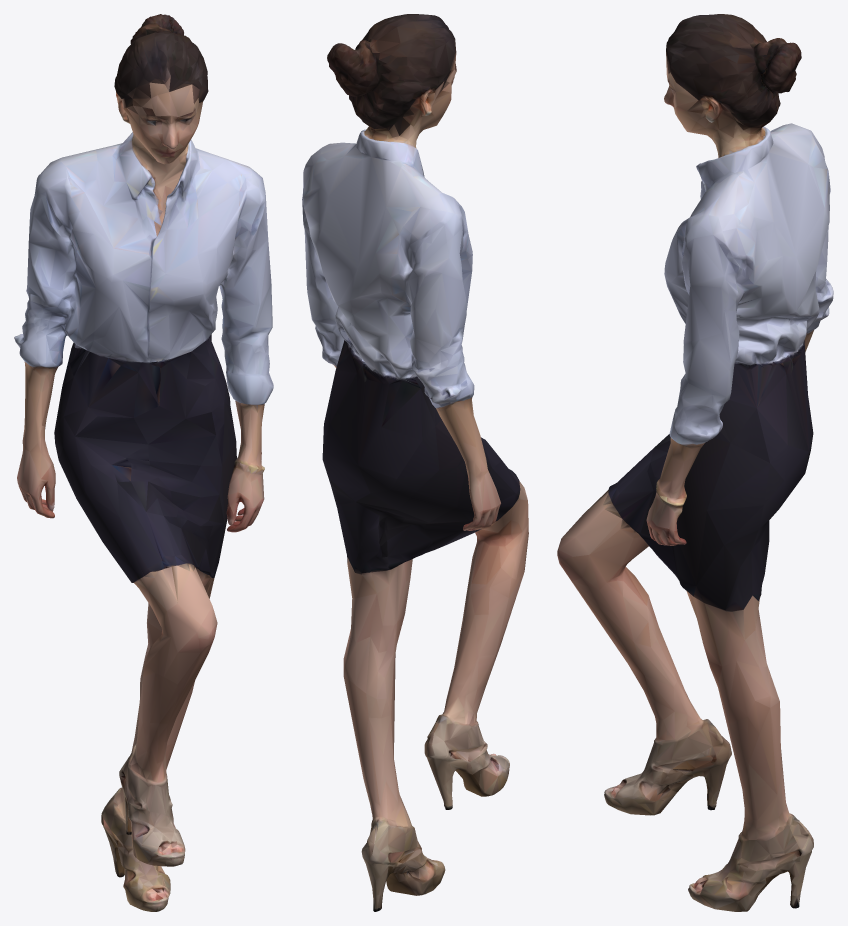
The model's file is ren2.gltf.
3 renders of one model, left to right at view 1: azimuth 30°, elevation 25°; view 2: azimuth 150°, elevation 25°; view 3: azimuth 270°, elevation 25°, orthographic. The views are drawn at different scales.
Visible parts, largest first — view 1: Obj3d66-515503-10-481; view 2: Obj3d66-515503-10-481; view 3: Obj3d66-515503-10-481.
Part boxes in pixels (<box>): Obj3d66-515503-10-481: <box>14,14,273,911</box>; Obj3d66-515503-10-481: <box>302,14,528,911</box>; Obj3d66-515503-10-481: <box>557,14,833,911</box>.
Size of the model in its own units: 4.5 by 17.09 by 4.79.
Materials: 1 (1 with a texture image).
